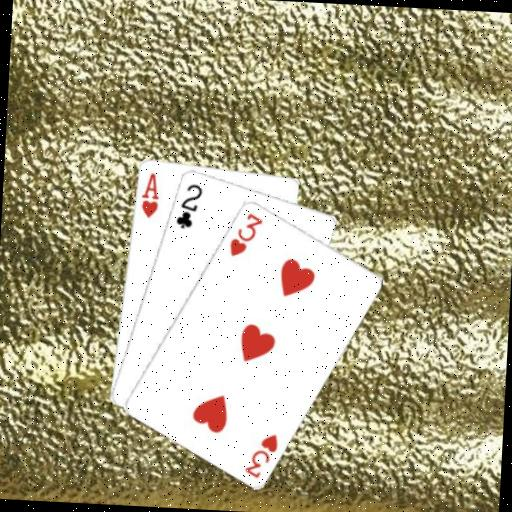2C: (172, 179, 205, 231)
3H: (225, 209, 265, 260), (241, 428, 280, 480)
AH: (137, 169, 162, 220)
